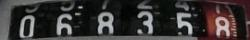digits: (174, 11, 193, 37), (135, 11, 153, 37), (18, 14, 35, 39), (97, 12, 114, 36), (56, 14, 72, 38), (214, 16, 230, 38)
